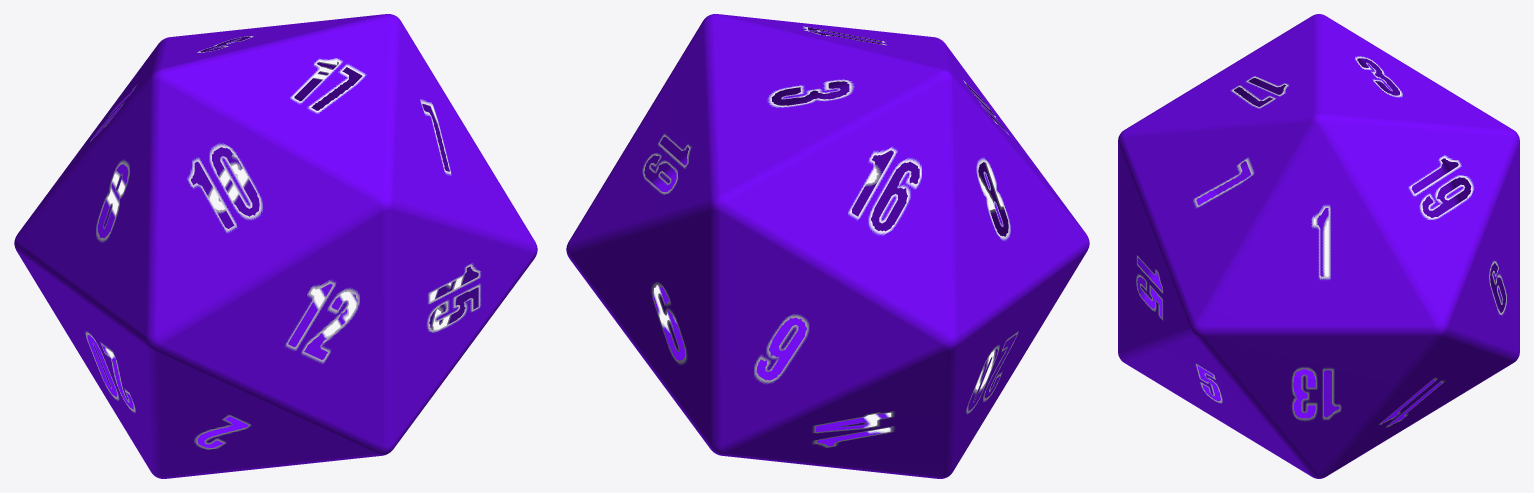
The model's file is d20_mesh_LOCs.fbx.
3 renders of one model, left to right at view 1: azimuth 30°, elevation 25°; view 2: azimuth 150°, elevation 25°; view 3: azimuth 270°, elevation 25°, orthographic. The views are drawn at different scales.
Visible parts, largest first — view 1: mesh_20_sided; view 2: mesh_20_sided; view 3: mesh_20_sided.
Boxes of the visible parts, <box> form: mesh_20_sided: <box>14,14,537,478</box>; mesh_20_sided: <box>566,14,1089,478</box>; mesh_20_sided: <box>1118,14,1519,478</box>.
Bounding box in the file's own units: 16.91 × 16.91 × 16.91.
